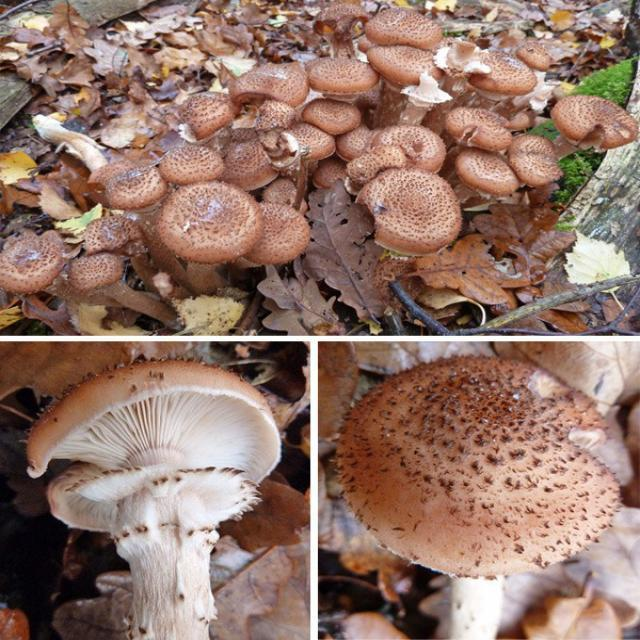Armillaria mellea: (0, 6, 639, 294), (336, 357, 618, 640), (34, 355, 283, 640)
